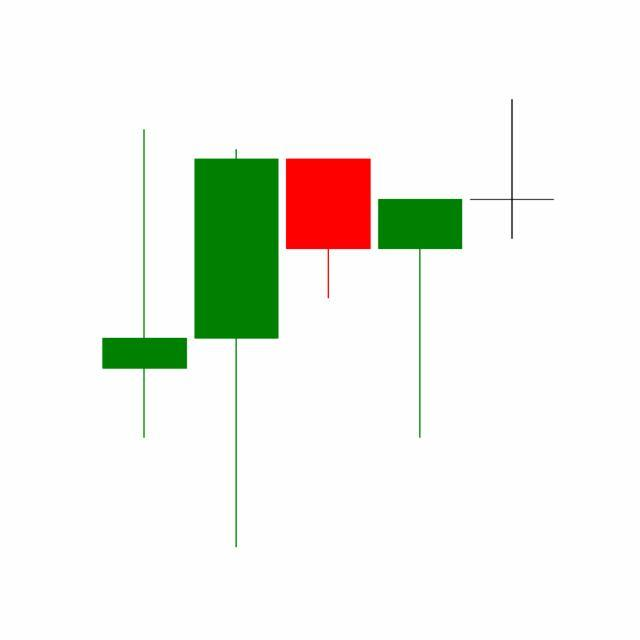Spinning Top: (466, 98, 559, 242)
